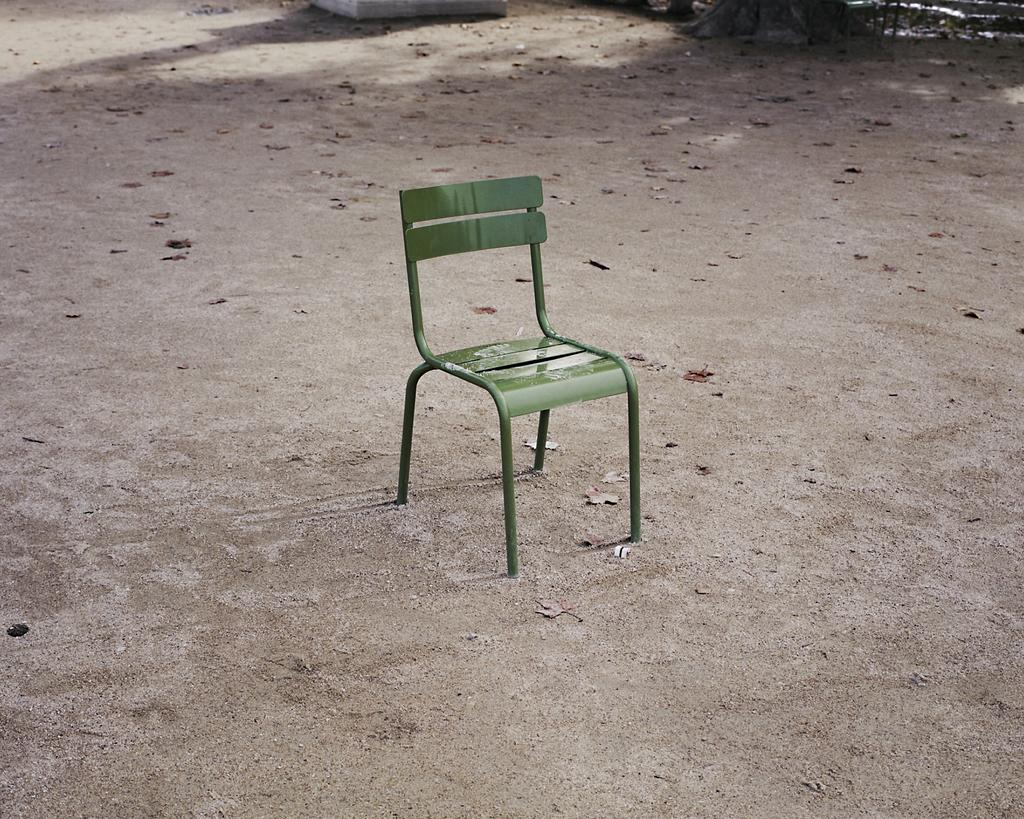Chair: (367, 166, 648, 587)
